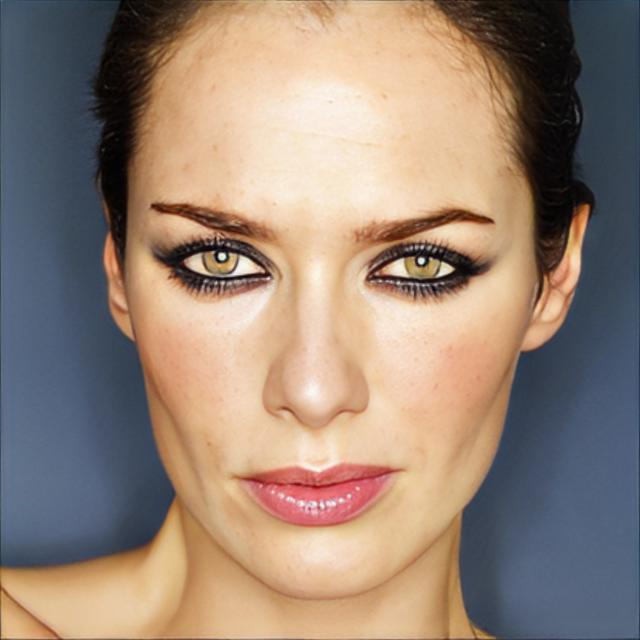content: (124, 0, 532, 598)
